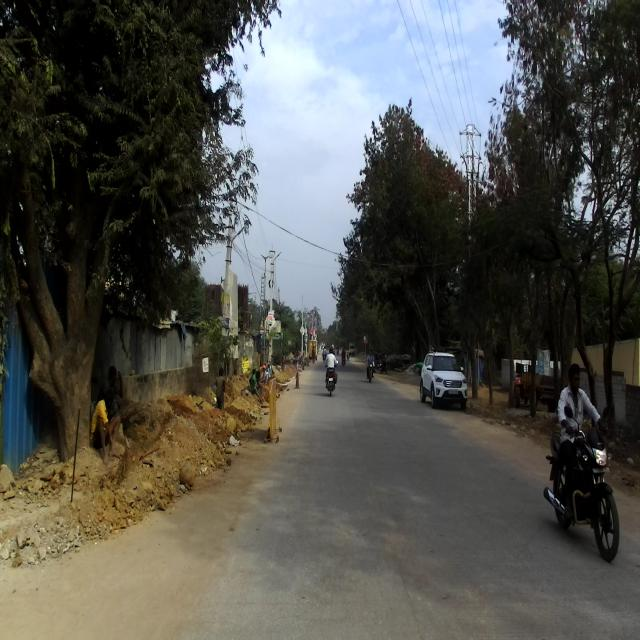barrier ahead at: (262, 372, 286, 453)
car ahead at: (416, 344, 470, 414)
motorcycle ahead at: (545, 423, 623, 569)
tree ahead at: (13, 214, 126, 485)
